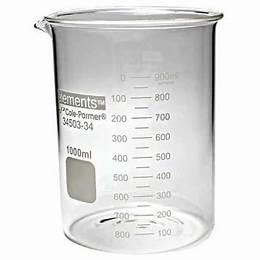Beaker: (33, 8, 229, 256)
